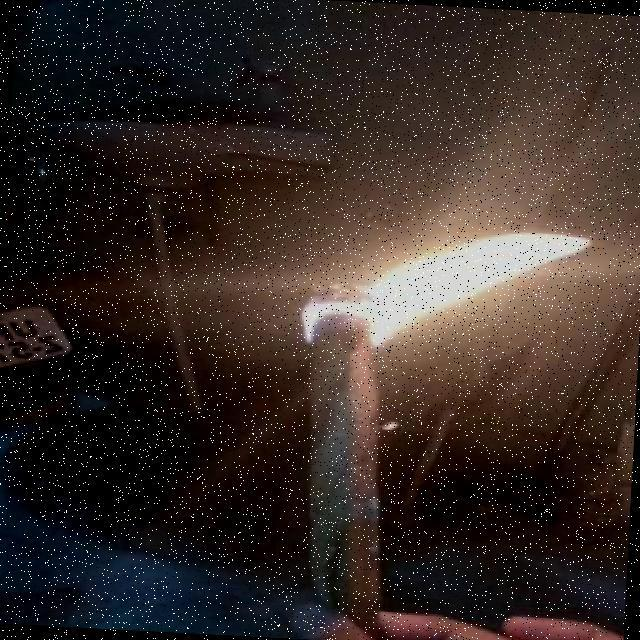Fire: (303, 192, 619, 364)
